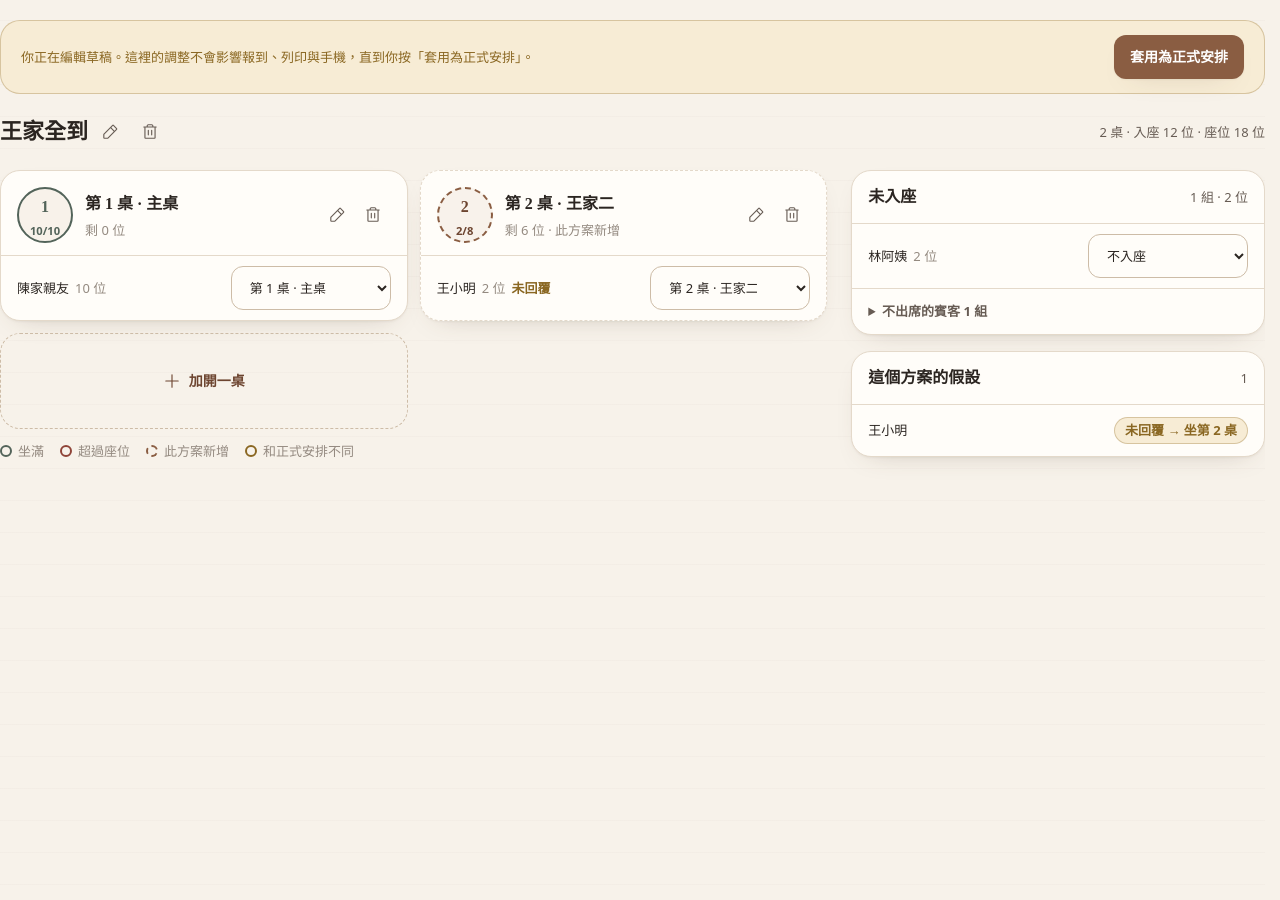
it: SeatingScenarioEditor › 有桌次超過座位時不能套用
The image size is (1280, 900).
Click the button "套用為正式安排" at x=1179, y=57, box [1114,35,1244,79]
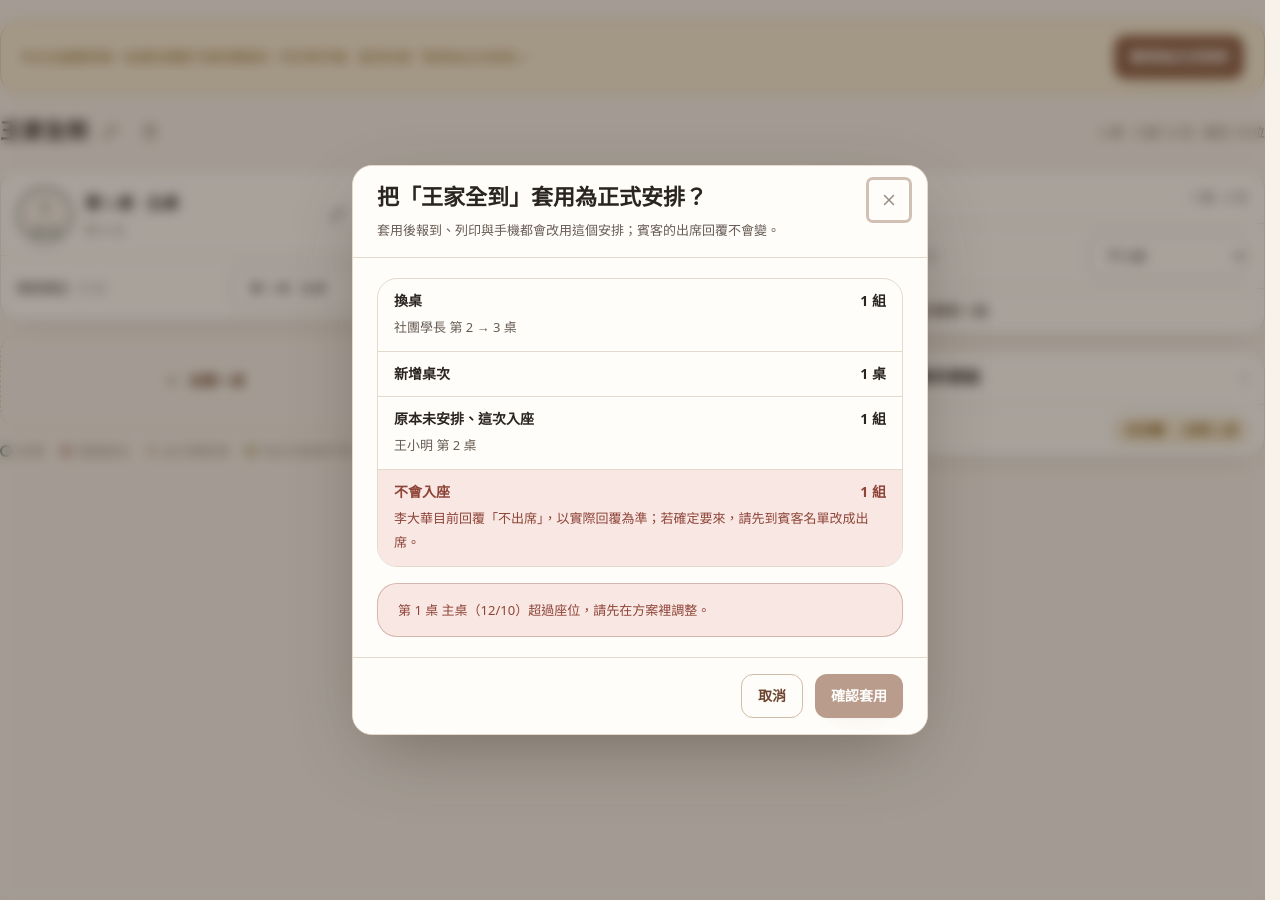
Expected: the text "第 1 桌 主桌（12/10）超過座位，請先在方案裡調整。" is shown, [398,598,710,622]
Expected: the button "確認套用" is disabled, [815,674,903,718]
